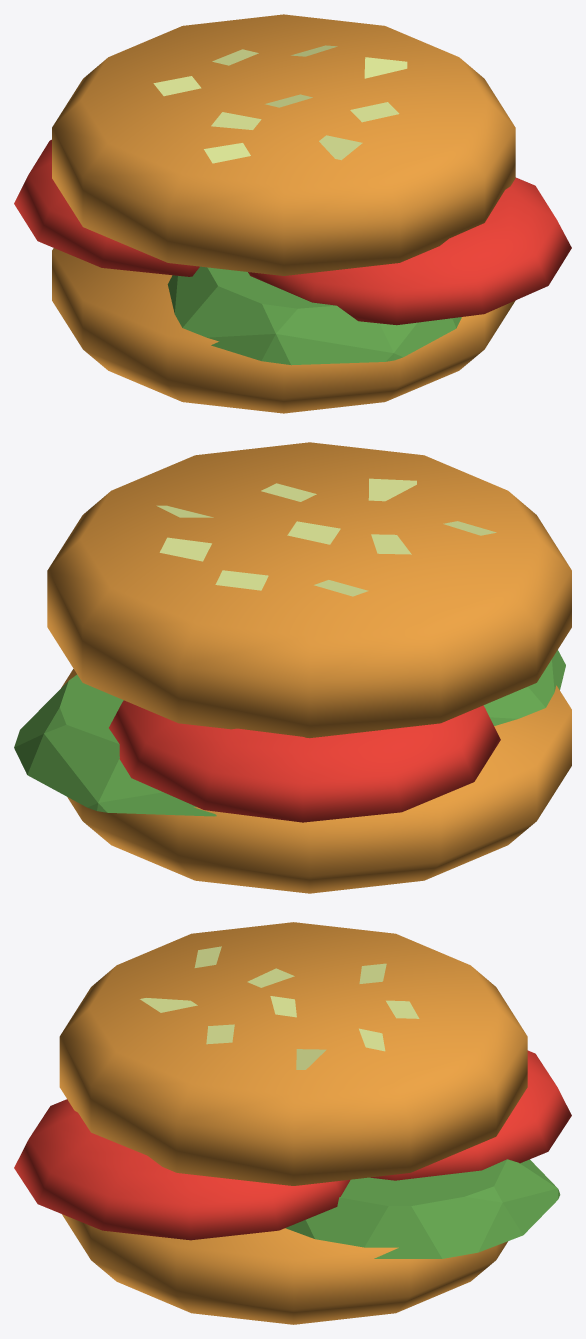
File: Burger(LettuceAndTomatoNoMeat).glb
3 renders of one model, top to bottom at view 1: azimuth 30°, elevation 25°; view 2: azimuth 150°, elevation 25°; view 3: azimuth 270°, elevation 25°, orthographic. The views are drawn at different scales.
Visible parts, largest first — view 1: Cylinder.037; view 2: Cylinder.037; view 3: Cylinder.037.
Boxes of the visible parts, x1,y1,x2,y2 form: Cylinder.037: [14, 14, 571, 413]; Cylinder.037: [14, 442, 571, 893]; Cylinder.037: [14, 922, 571, 1324].
Size of the model in its own units: 0.4869 by 0.2636 by 0.5625.
